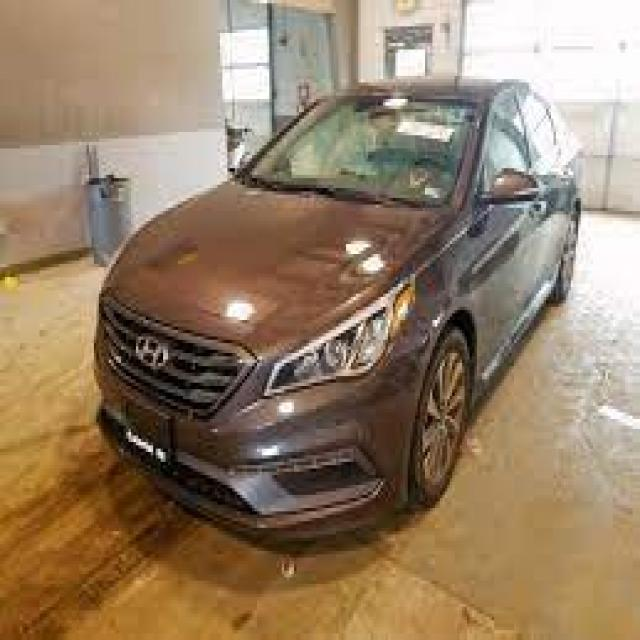minor: (139, 217, 221, 289)
